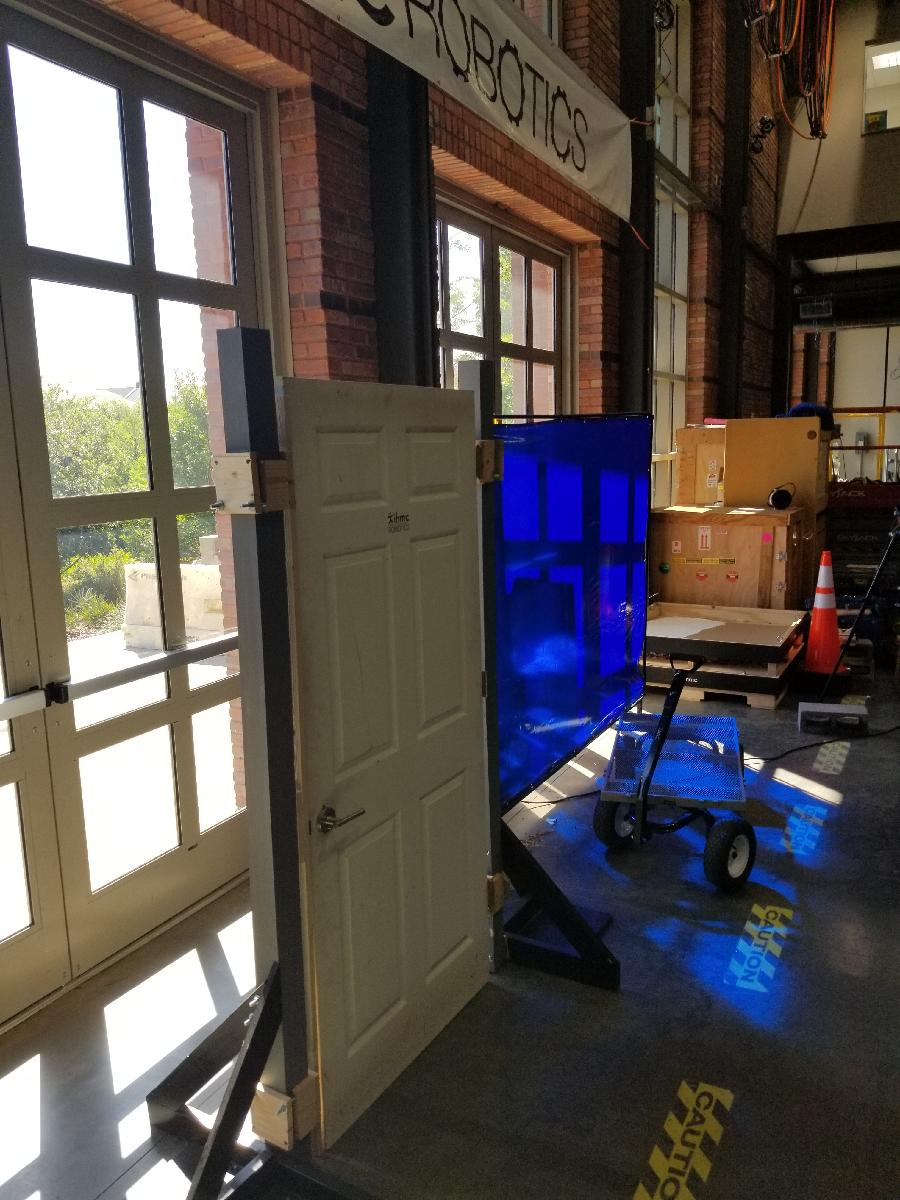door: (263, 372, 499, 1157)
doorHandle: (312, 788, 376, 841)
